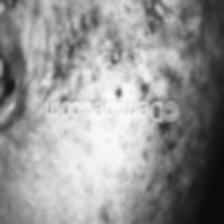Potentially Malignant Skin Tumors: (99, 44, 141, 96)
